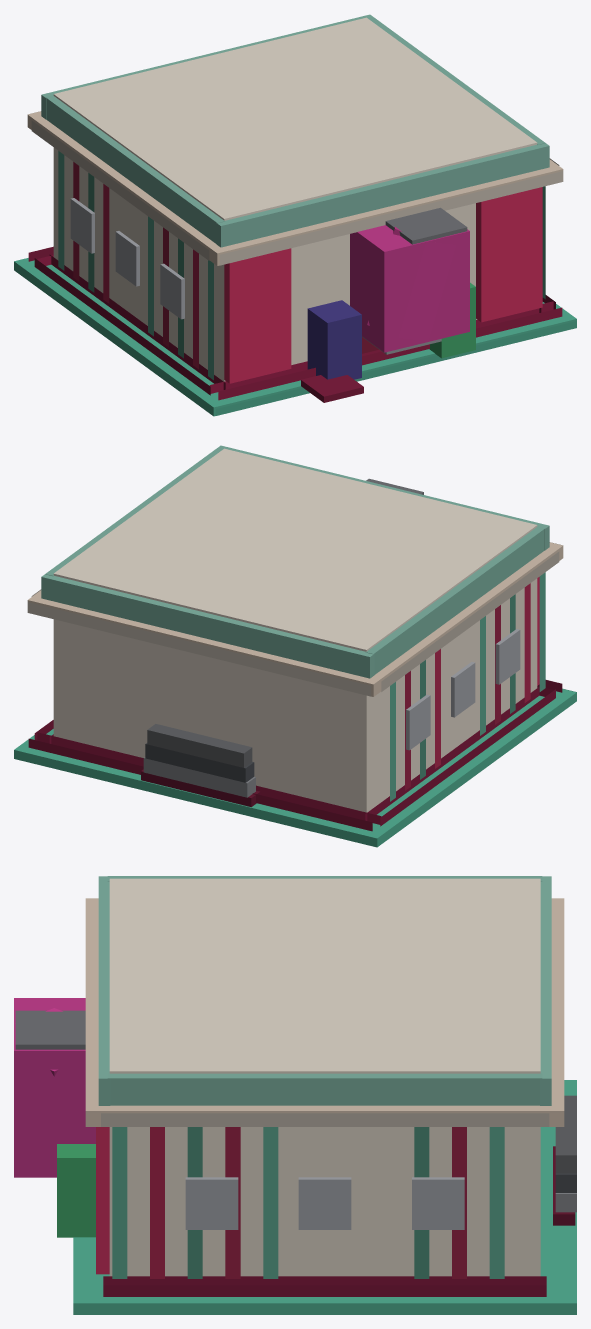
Rendered from MagicSodaSil.fbx.
3 views of the same model, one above another, from view 1: azimuth 30°, elevation 25°; view 2: azimuth 150°, elevation 25°; view 3: azimuth 270°, elevation 25° (orthographic). The views are drawn at different scales.
Visible parts, largest first — view 1: SD_S_All; view 2: SD_S_All; view 3: SD_S_All.
Boxes of the visible parts, box(x1,y1,x2,y2) form: SD_S_All: box(14, 14, 576, 416); SD_S_All: box(14, 445, 576, 847); SD_S_All: box(14, 876, 576, 1314).
Bounding box in the file's own units: 42.04 × 20 × 44.74.
